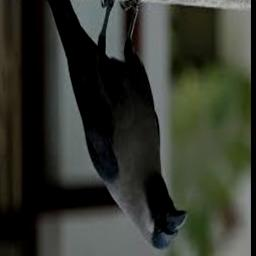Crow: (45, 0, 187, 251)
